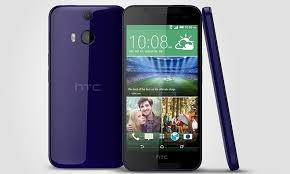htc: (124, 1, 202, 171), (46, 1, 124, 170)
